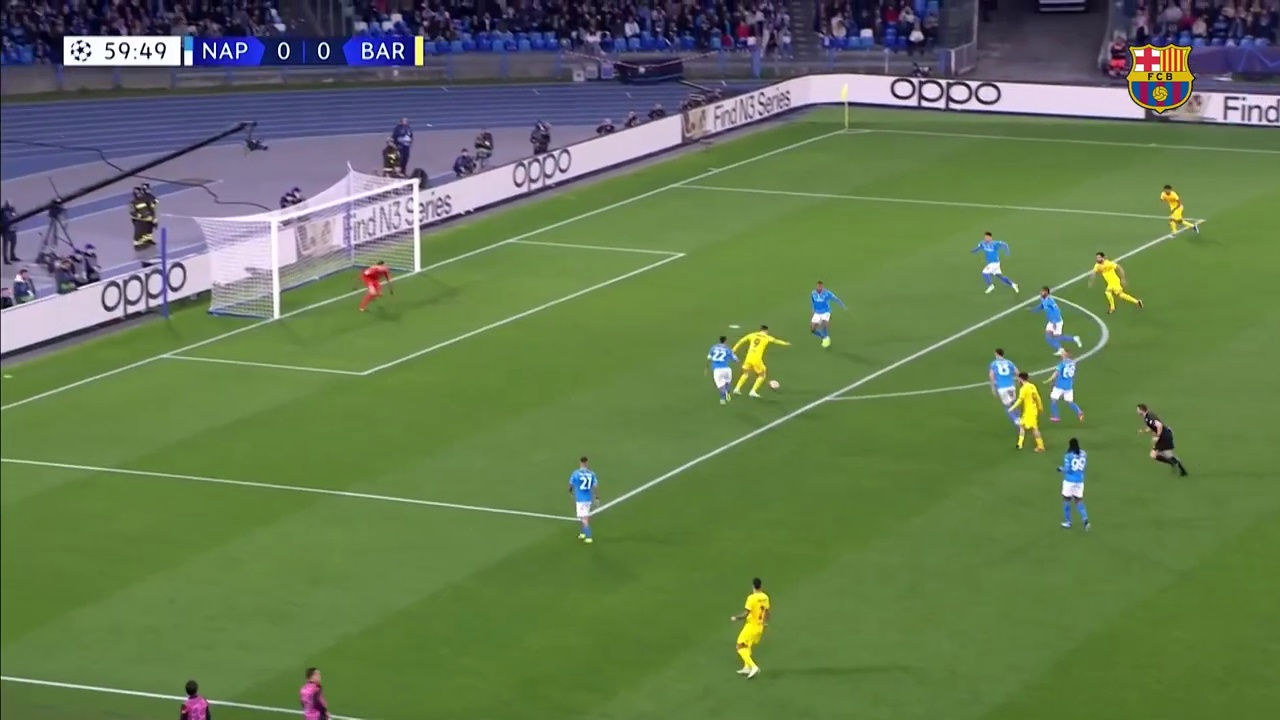ball: (614, 349, 640, 371)
